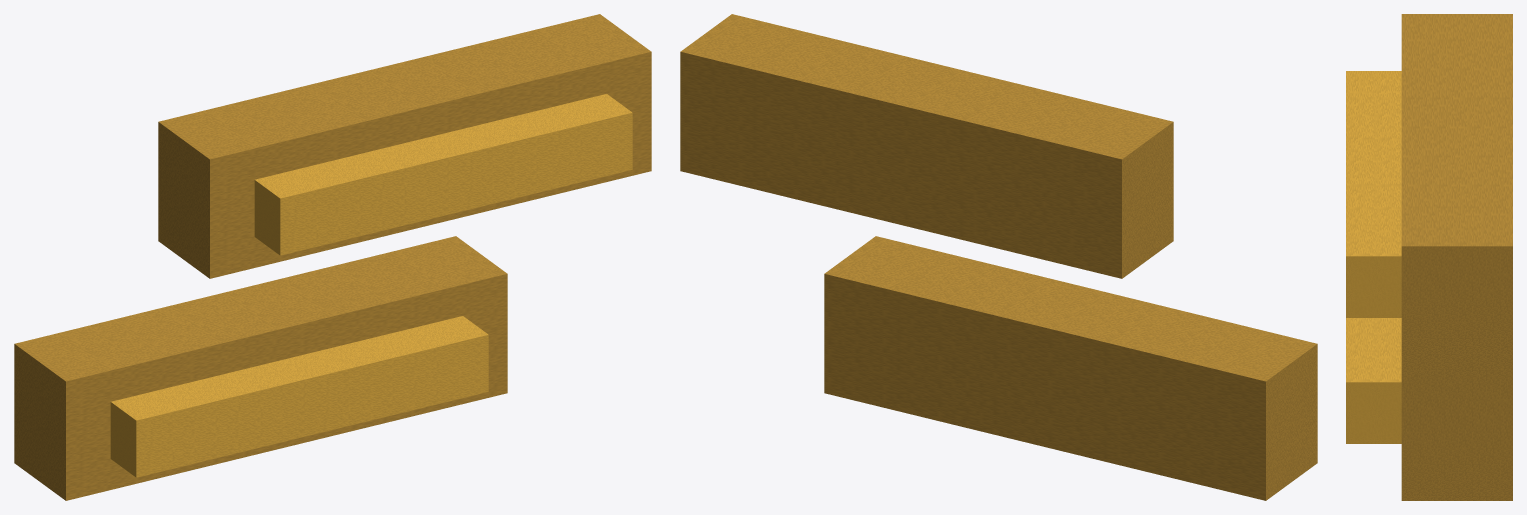
File: reference_hair_clips.gltf
3 renders of one model, left to right at view 1: azimuth 30°, elevation 25°; view 2: azimuth 150°, elevation 25°; view 3: azimuth 270°, elevation 25°, orthographic. The views are drawn at different scales.
Parts seen in each view (by area): view 1: Hair Clips; view 2: Hair Clips; view 3: Hair Clips.
Boxes of the visible parts, x1,y1,x2,y2 form: Hair Clips: (14,14,651,500); Hair Clips: (680,14,1317,500); Hair Clips: (1346,14,1512,500).
Bounding box in the file's own units: 0.118 × 0.059 × 0.027.
Materials: 2 (2 with a texture image).
